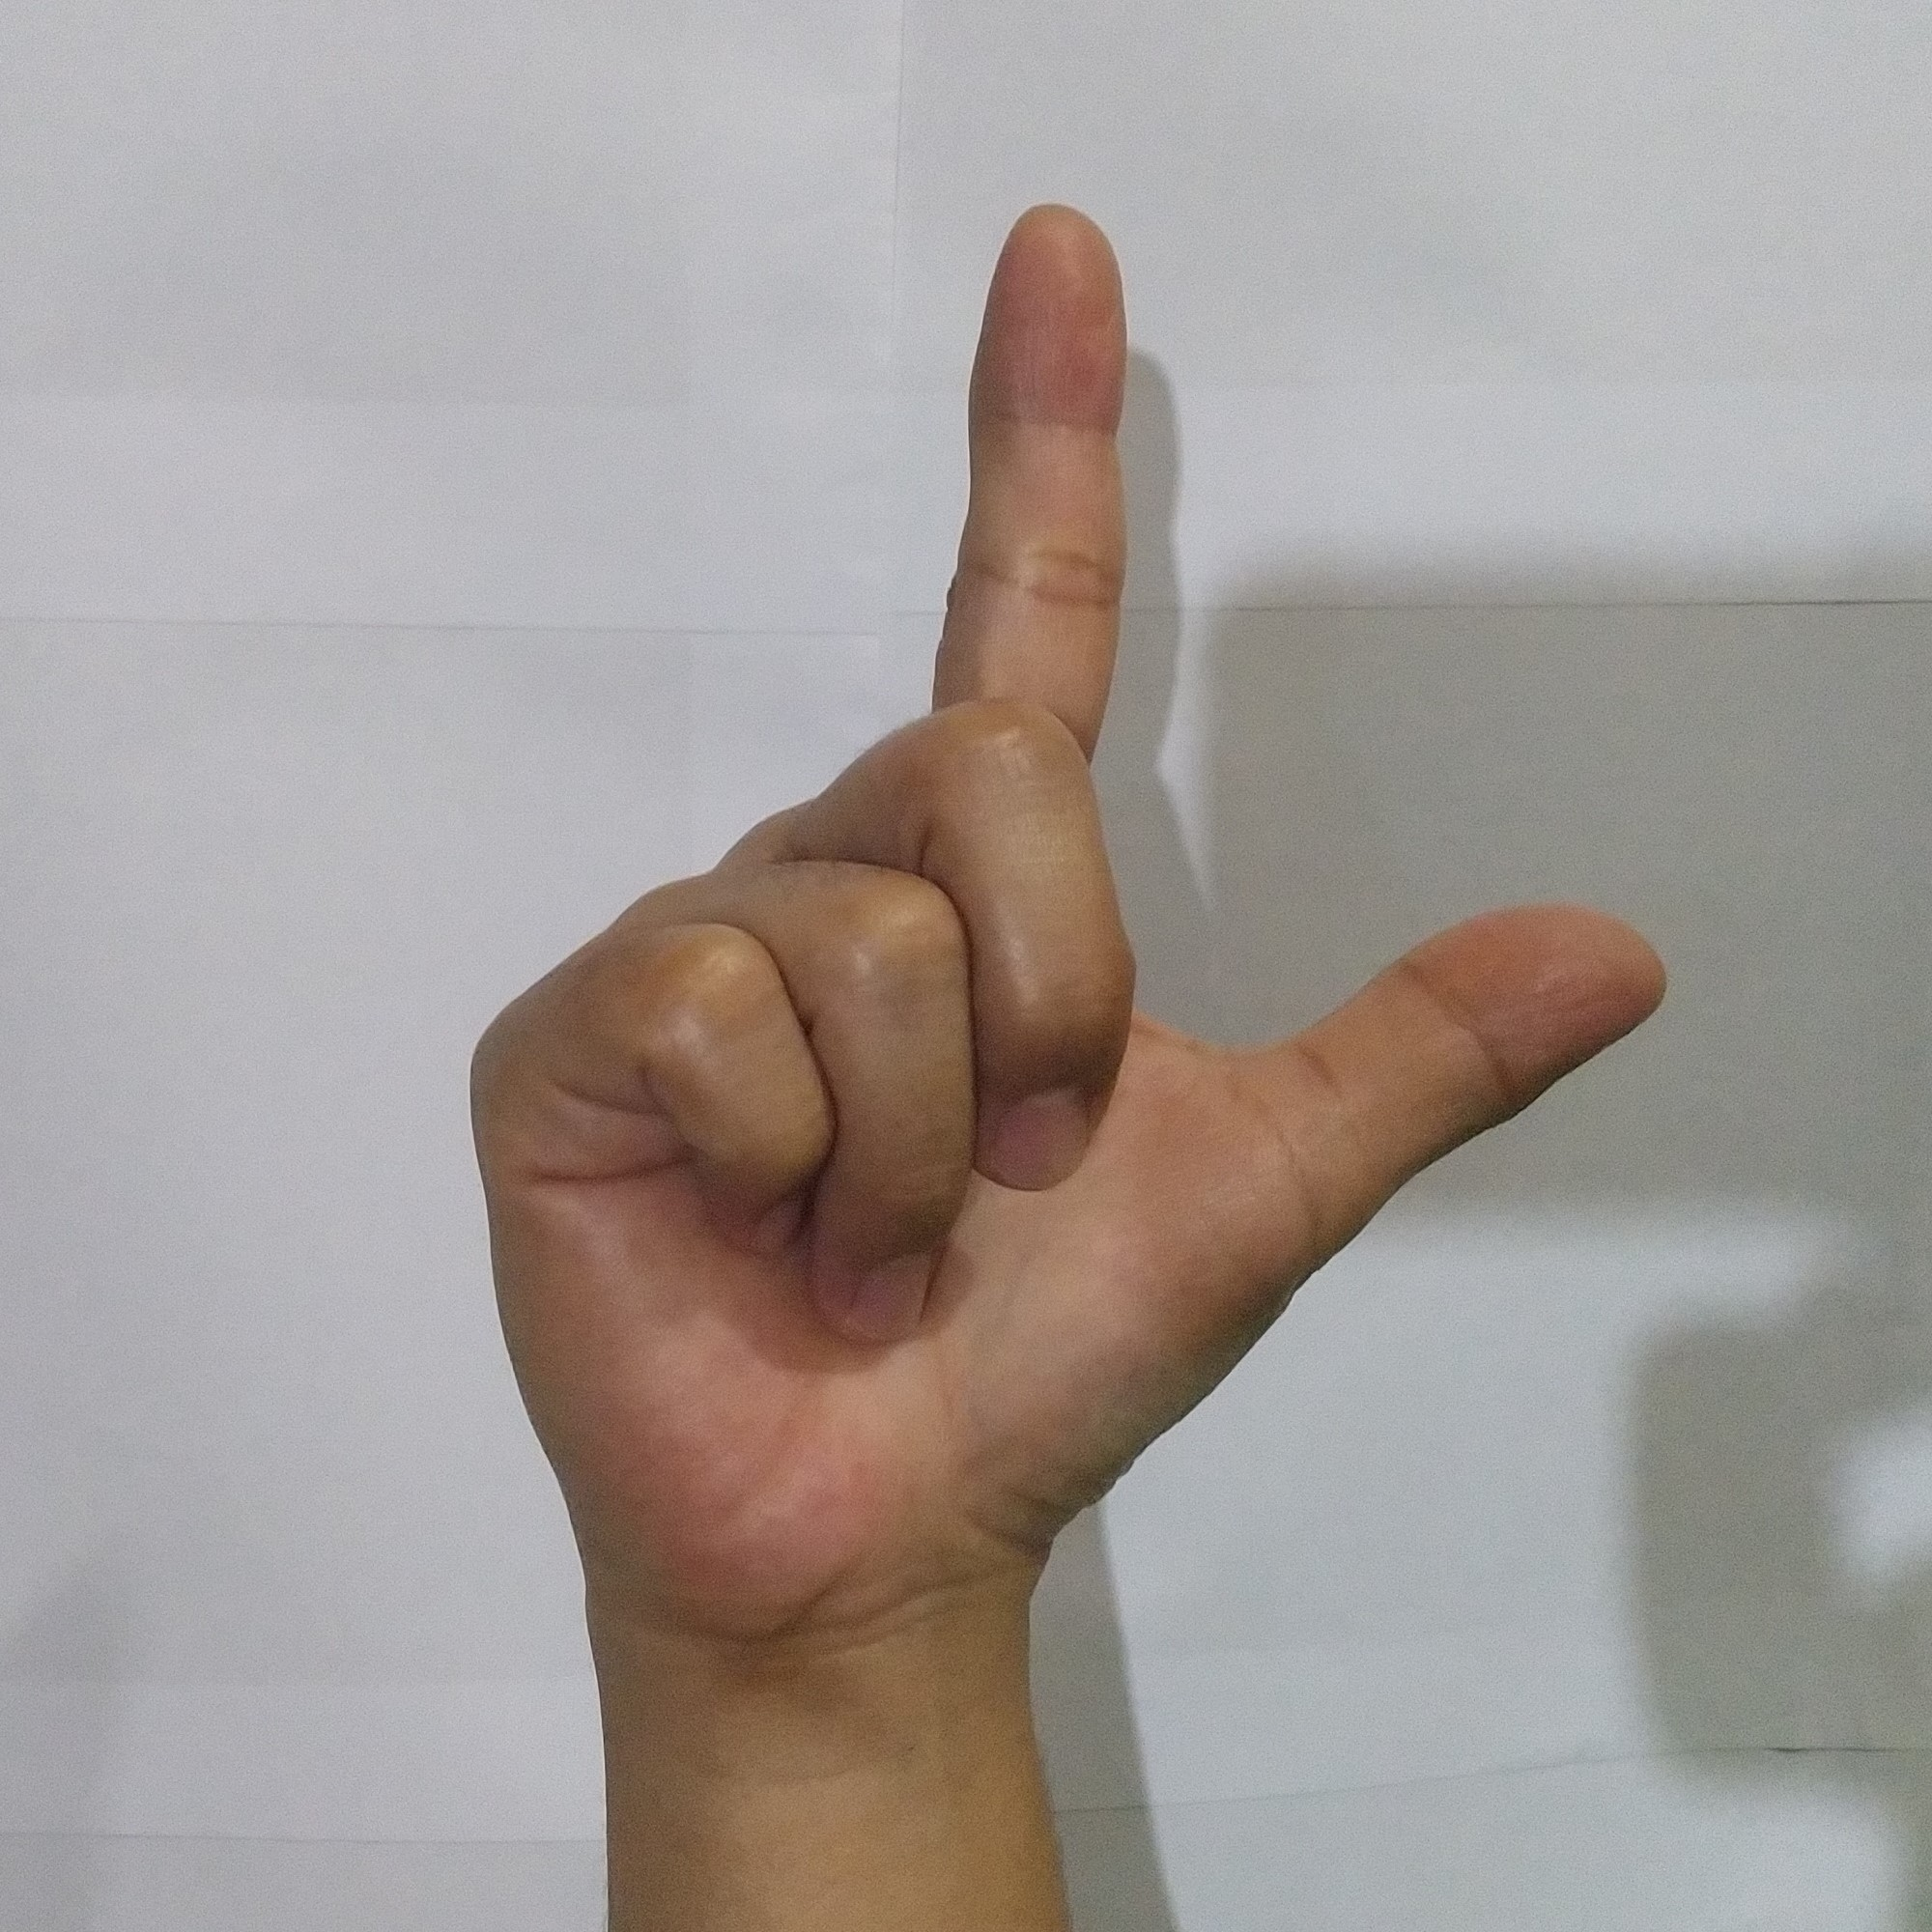L: (433, 173, 1695, 1573)
